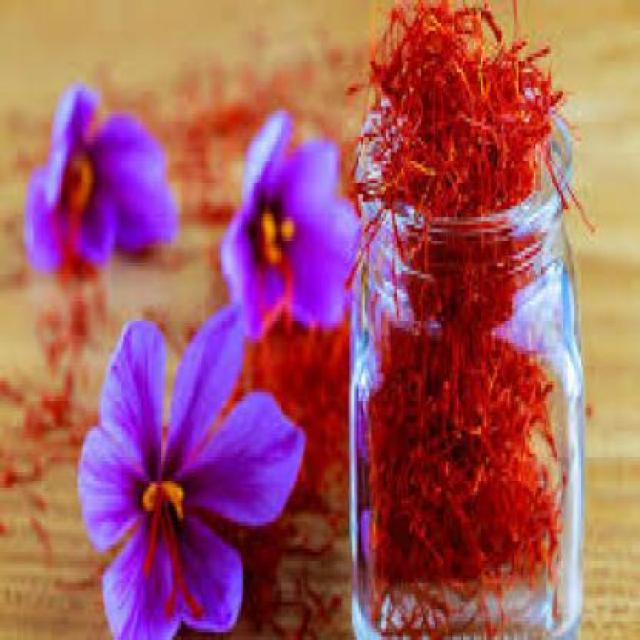Flower: (80, 306, 302, 640), (221, 108, 359, 332), (24, 81, 184, 274)
stigma: (135, 412, 212, 623), (48, 118, 112, 274), (253, 201, 302, 332)
